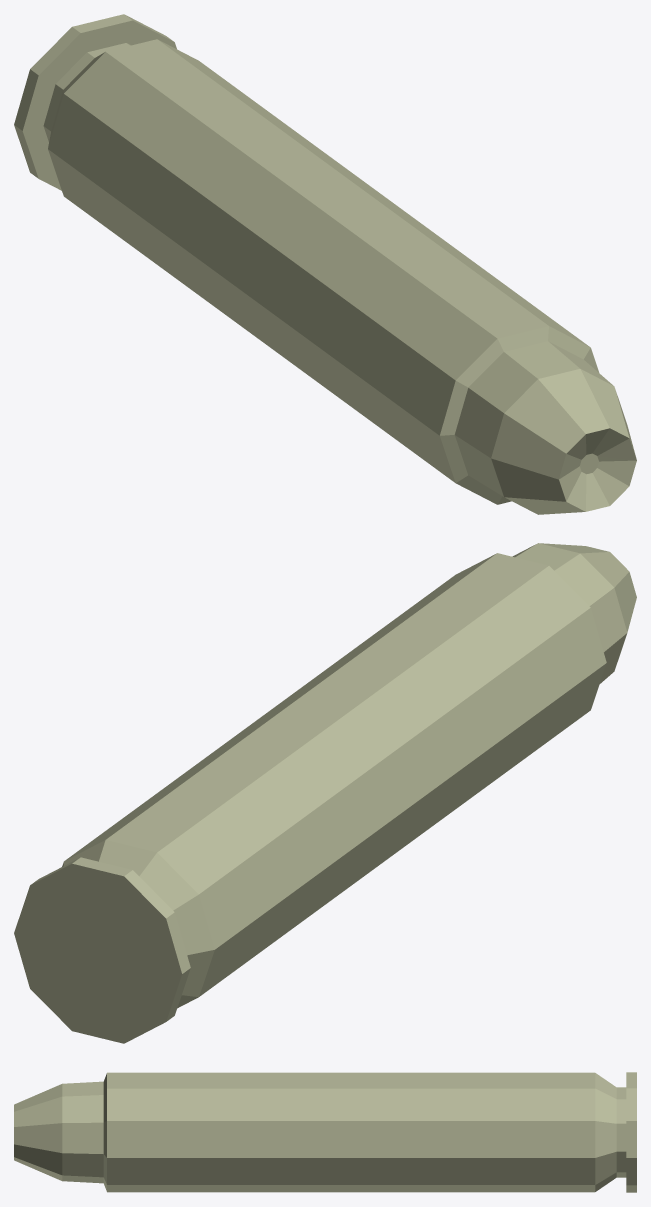
File: tinker.fbx
3 views of the same model, one above another, from view 1: azimuth 30°, elevation 25°; view 2: azimuth 150°, elevation 25°; view 3: azimuth 270°, elevation 25° (orthographic). The views are drawn at different scales.
Parts seen in each view (by area): view 1: group_0_11909273; view 2: group_0_11909273; view 3: group_0_11909273.
Part boxes in pixels (x1,y1,x2,y2): group_0_11909273: [14, 14, 636, 514]; group_0_11909273: [14, 543, 636, 1043]; group_0_11909273: [14, 1072, 636, 1192].
Bounding box in the file's own units: 8.92 × 8.48 × 45.89.
